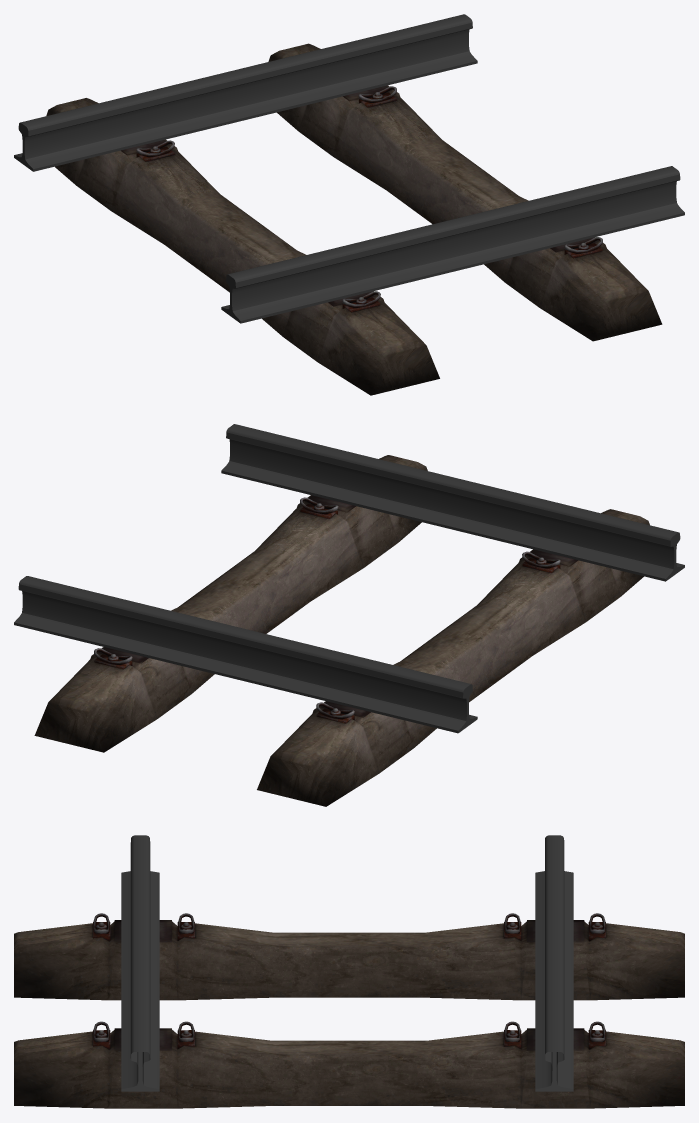
File: RailPiece2.FBX
3 renders of one model, top to bottom at view 1: azimuth 30°, elevation 25°; view 2: azimuth 150°, elevation 25°; view 3: azimuth 270°, elevation 25°, orthographic.
Parts seen in each view (by area): view 1: RailPiece2; view 2: RailPiece2; view 3: RailPiece2.
Boxes of the visible parts, bbox=[...] form: RailPiece2: bbox=[14, 14, 684, 395]; RailPiece2: bbox=[14, 424, 684, 806]; RailPiece2: bbox=[14, 835, 684, 1108].
Bounding box in the file's own units: 200 × 262 × 39.3.
